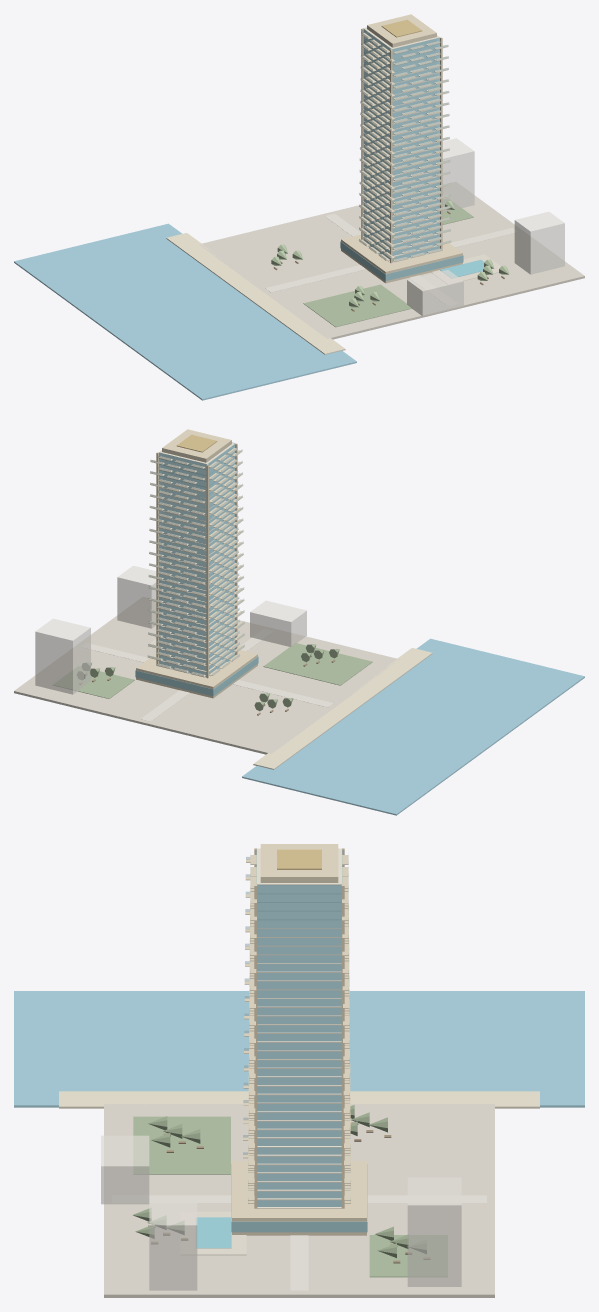
The model's file is dimri-rich.glb.
3 renders of one model, top to bottom at view 1: azimuth 30°, elevation 25°; view 2: azimuth 150°, elevation 25°; view 3: azimuth 270°, elevation 25°, orthographic. The views are drawn at different scales.
Parts seen in each view (by area): view 1: sea, site, b0glass, beach, ctx1, b0pod, green1, ctx2, ctx0, b0crown, pathx, b0podglass (+5 smaller); view 2: sea, site, b0glass, ctx0, beach, b0pod, green1, ctx1, ctx2, green2, b0crown, pathx (+4 smaller); view 3: sea, site, b0glass, ctx0, beach, b0pod, green1, ctx1, ctx2, green2, b0crown, pathz (+44 smaller).
Part boxes in pixels (x1=…): sea: x1=14, y1=223, x2=356, y2=400; site: x1=199, y1=182, x2=584, y2=339; b0glass: x1=363, y1=29, x2=439, y2=261; beach: x1=166, y1=233, x2=345, y2=354; ctx1: x1=514, y1=212, x2=564, y2=274; b0pod: x1=341, y1=234, x2=462, y2=283; green1: x1=303, y1=284, x2=412, y2=327; ctx2: x1=407, y1=270, x2=463, y2=316; ctx0: x1=442, y1=138, x2=474, y2=212; b0crown: x1=367, y1=14, x2=436, y2=47; pathx: x1=265, y1=228, x2=517, y2=292; b0podglass: x1=340, y1=241, x2=463, y2=281; sea: x1=242, y1=638, x2=584, y2=815; site: x1=14, y1=597, x2=399, y2=754; b0glass: x1=159, y1=444, x2=235, y2=676; ctx0: x1=35, y1=618, x2=90, y2=694; beach: x1=253, y1=648, x2=432, y2=769; b0pod: x1=136, y1=650, x2=257, y2=698; green1: x1=263, y1=643, x2=372, y2=685; ctx1: x1=117, y1=565, x2=156, y2=628; ctx2: x1=250, y1=600, x2=306, y2=646; green2: x1=53, y1=666, x2=134, y2=698; b0crown: x1=162, y1=429, x2=231, y2=462; pathx: x1=81, y1=643, x2=333, y2=707; sea: x1=14, y1=991, x2=584, y2=1107; site: x1=104, y1=1104, x2=494, y2=1297; b0glass: x1=256, y1=849, x2=342, y2=1206; ctx0: x1=407, y1=1177, x2=461, y2=1286; beach: x1=59, y1=1091, x2=539, y2=1108; b0pod: x1=232, y1=1161, x2=366, y2=1235; green1: x1=133, y1=1116, x2=230, y2=1174; ctx1: x1=149, y1=1200, x2=197, y2=1290; ctx2: x1=101, y1=1135, x2=149, y2=1204; green2: x1=369, y1=1235, x2=447, y2=1277; b0crown: x1=260, y1=844, x2=338, y2=882; pathz: x1=112, y1=1195, x2=486, y2=1202.
Size of the model in its own units: 240 by 129 by 190.
